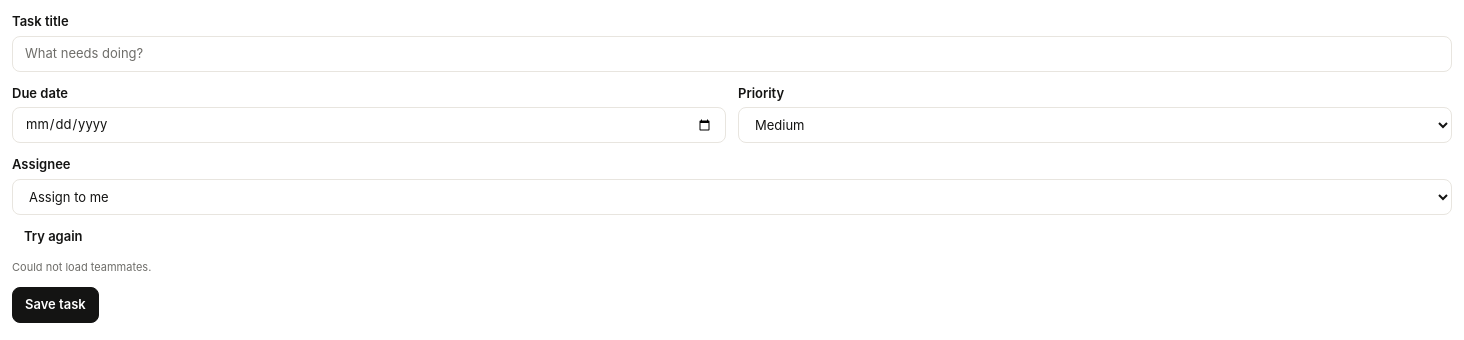
Scenario: TasksTab › offers only Assign to me when the people fail to load, with Try again
The width and height of the screenshot is (1464, 340).
Expected: the text "Could not load teammates." is shown, [12,260,151,274]
Click the button "Try again": x=53, y=236 [12,218,95,254]
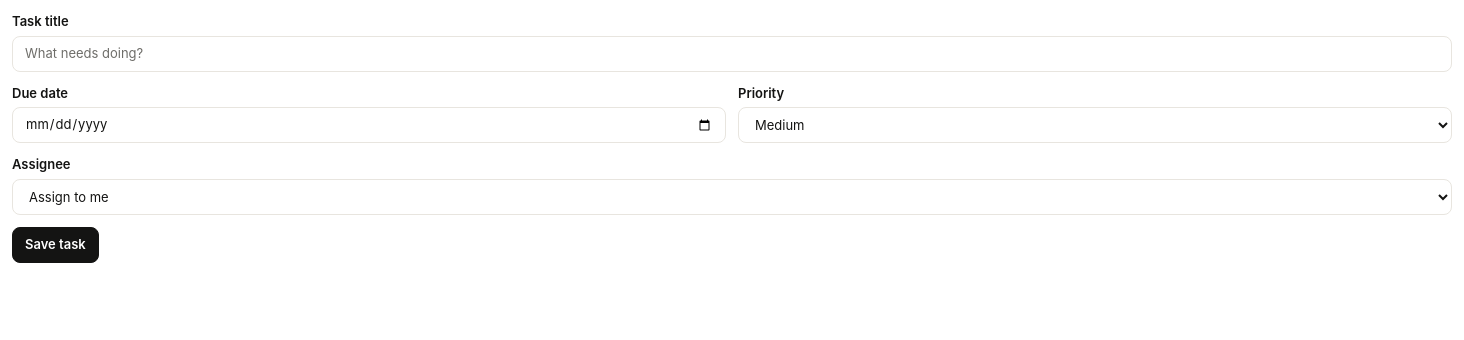
Expected: the text "Could not load teammates." is gone
